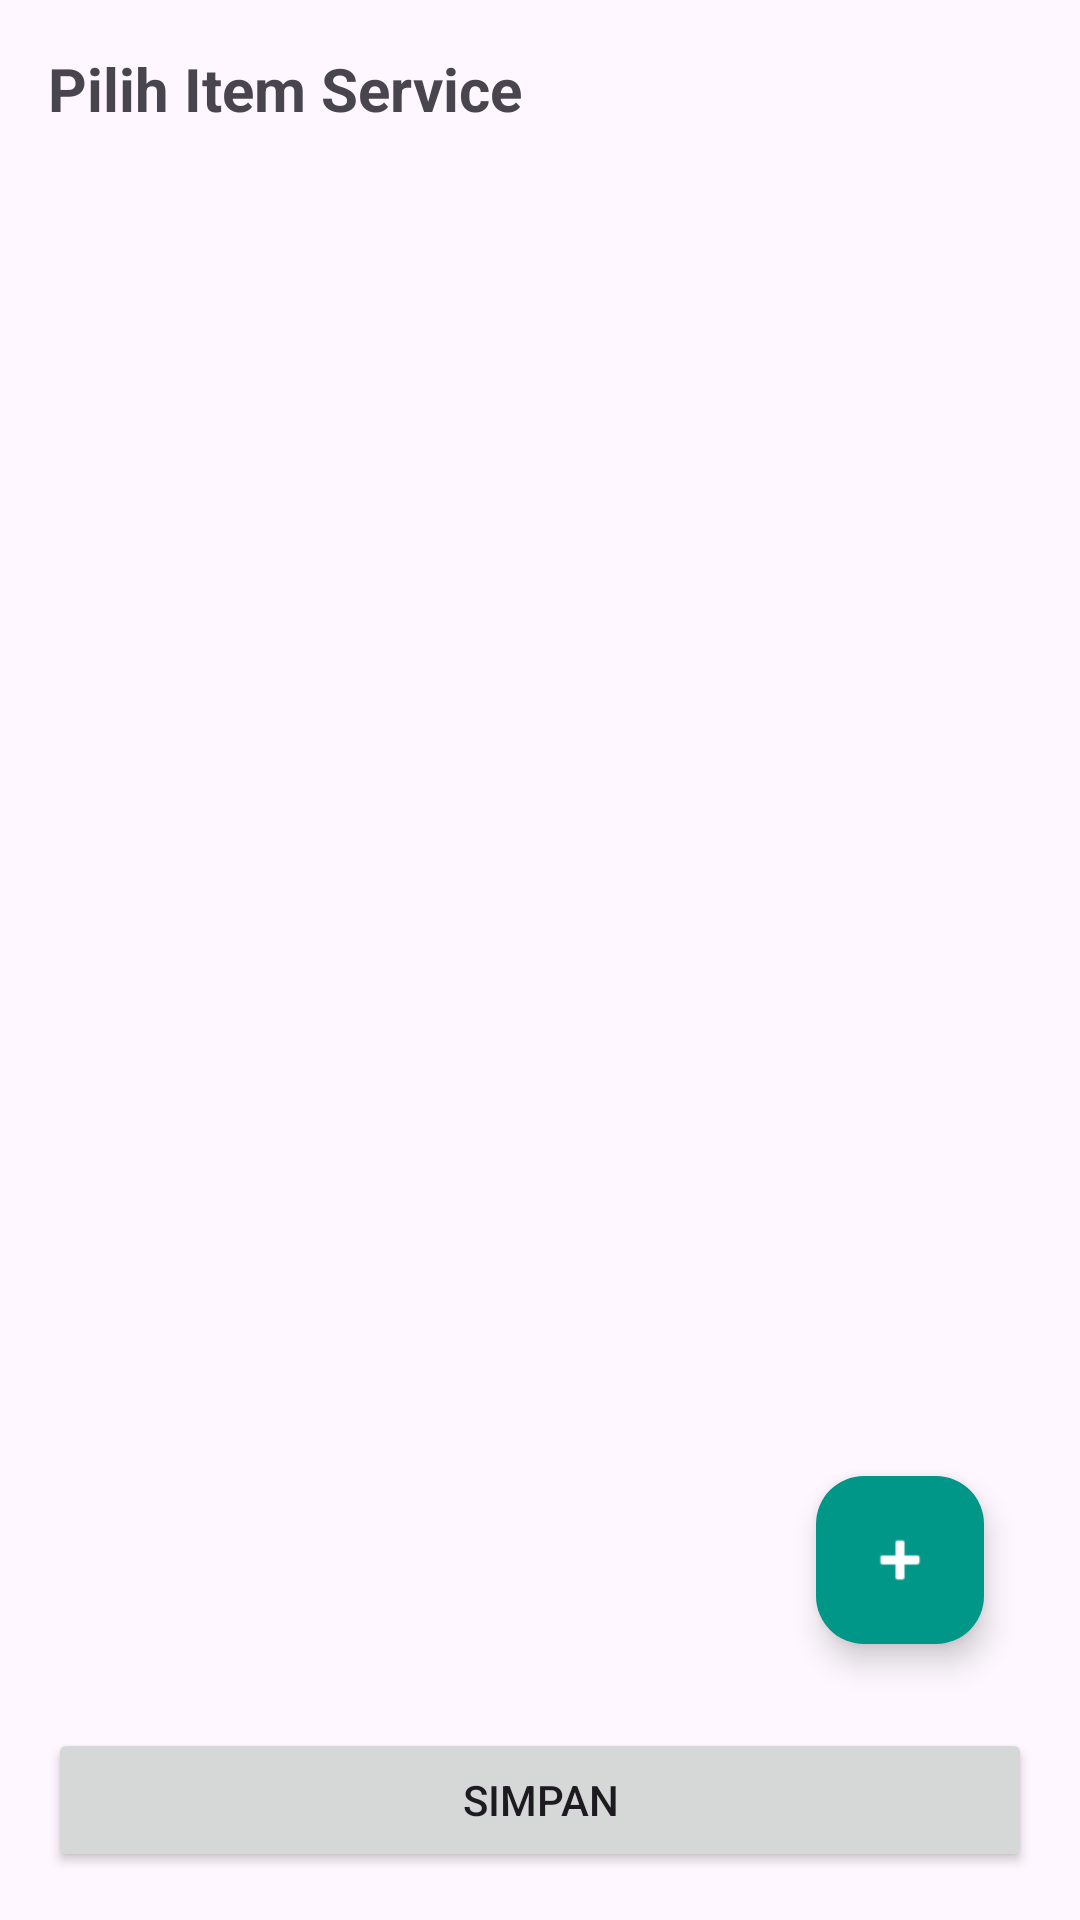

Screen size 1080*1920. Icon name, then its box in pixels as (x1, y1, x2, y2):
Tambah item: (816, 1476, 984, 1644)
